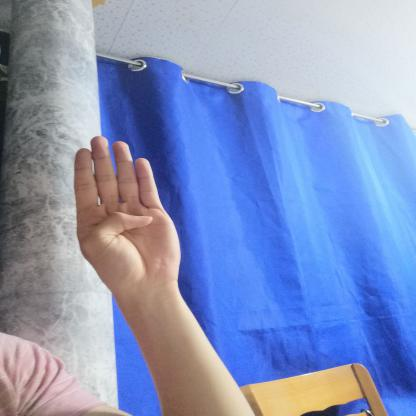KAAF: (57, 123, 198, 305)
